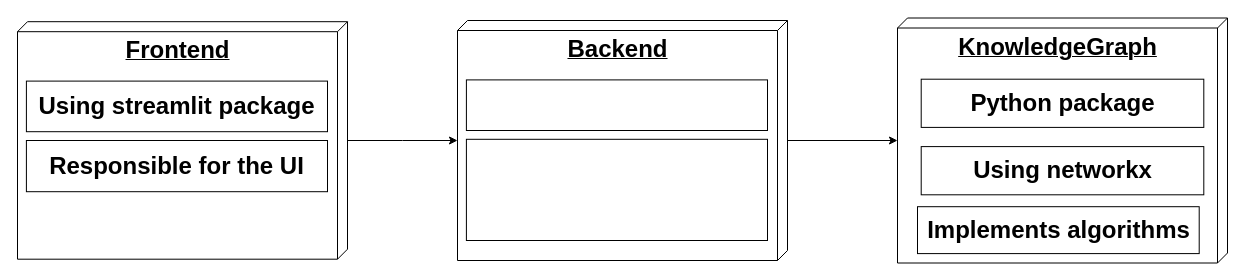
Some shapes in this 1245 by 280 pixel diagram are drawn without their labels. Each missing label, with the centre of its shape:
"Responsible for providing data for the frontend" goes at [616,189].
"Web service using Flask" goes at [616,104].
